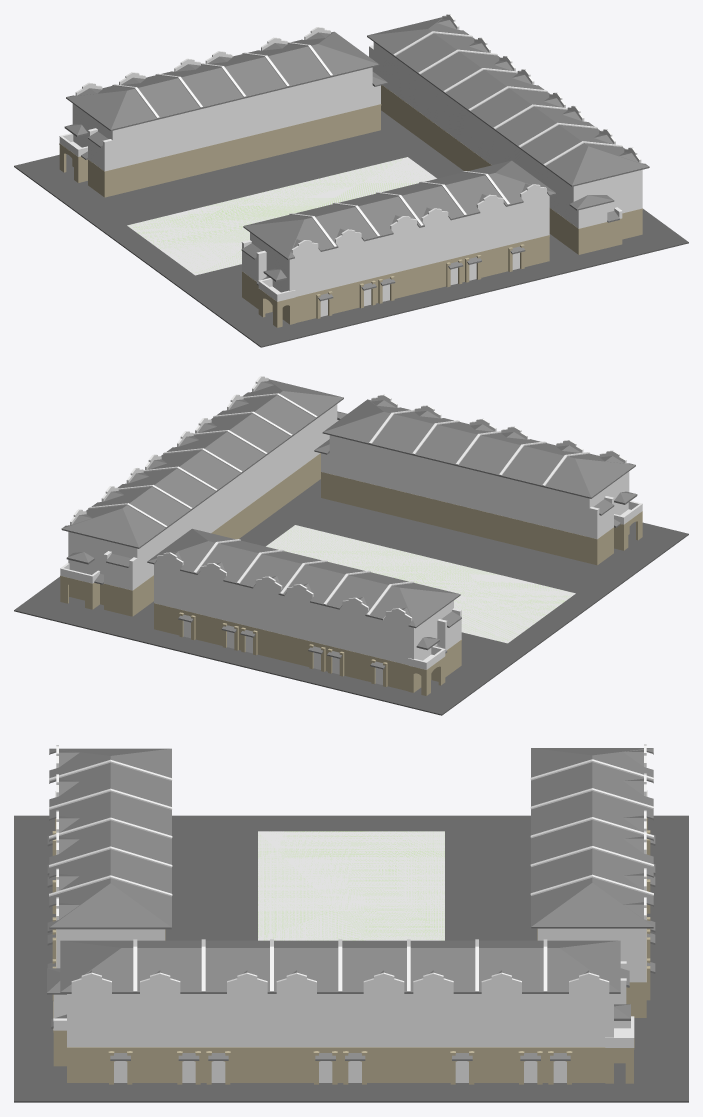
Rendered from Brownstones.dae.
3 views of the same model, one above another, from view 1: azimuth 30°, elevation 25°; view 2: azimuth 150°, elevation 25°; view 3: azimuth 270°, elevation 25° (orthographic). The views are drawn at different scales.
Parts seen in each view (by area): view 1: Rowhouse_1 (×38), group_3 (×2), Rowhouse_4 (×8), Rowhouse_3 (×9); view 2: Rowhouse_1 (×38), group_3 (×2), Rowhouse_4 (×9), Rowhouse_3 (×8); view 3: Rowhouse_1 (×26), group_3 (×2), Rowhouse_3 (×8), Rowhouse_4 (×5).
Boxes of the visible parts, x1,y1,x2,y2 form: Rowhouse_1 (×38): (121,33,613,313); group_3 (×2): (14,110,688,347); Rowhouse_4 (×8): (59,14,468,327); Rowhouse_3 (×9): (291,27,649,271); Rowhouse_1 (×38): (91,395,580,681); group_3 (×2): (14,479,688,715); Rowhouse_4 (×9): (60,450,642,695); Rowhouse_3 (×8): (147,376,410,640); Rowhouse_1 (×26): (49,762,653,1084); group_3 (×2): (14,815,688,1102); Rowhouse_3 (×8): (49,877,653,1084); Rowhouse_4 (×5): (49,748,653,1084).
Bounding box in the file's own units: 48 × 48 × 9.02.
